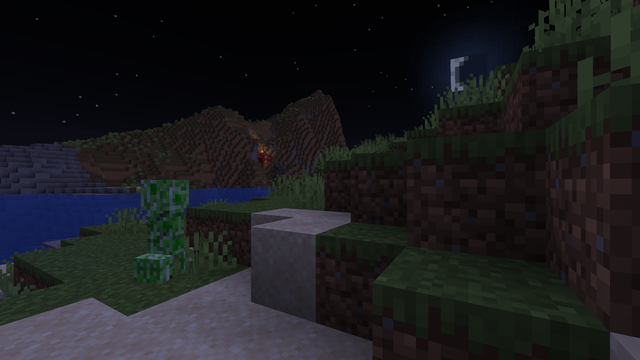creepers: (137, 174, 192, 283)
